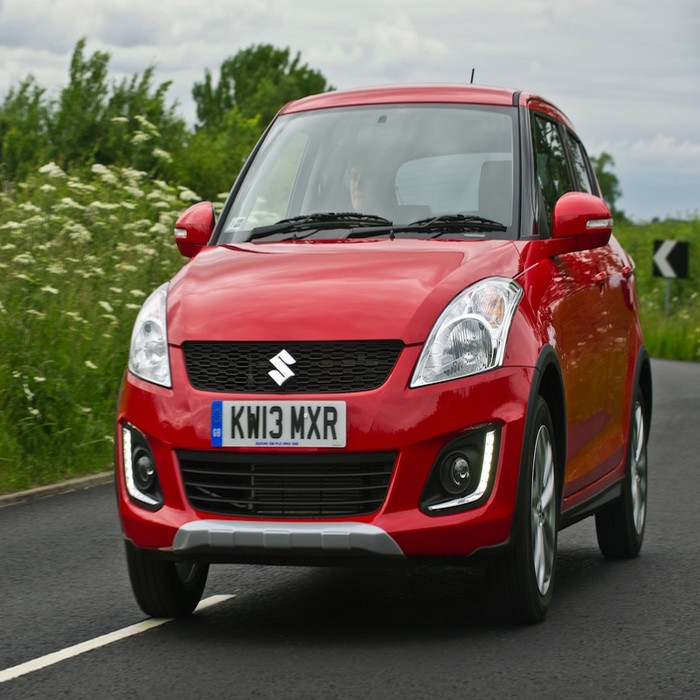n: (198, 395, 354, 452)
